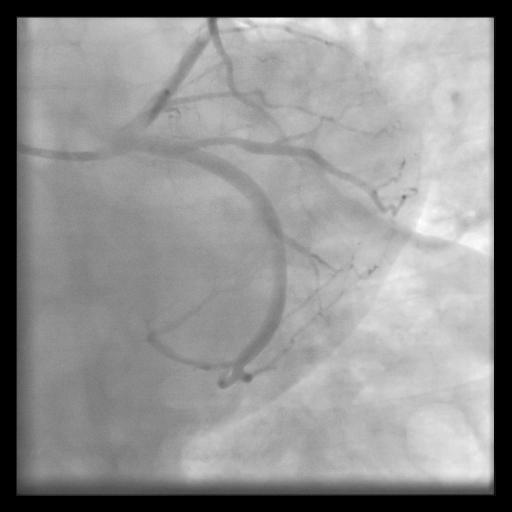Stenosis: (200, 132, 238, 149)
